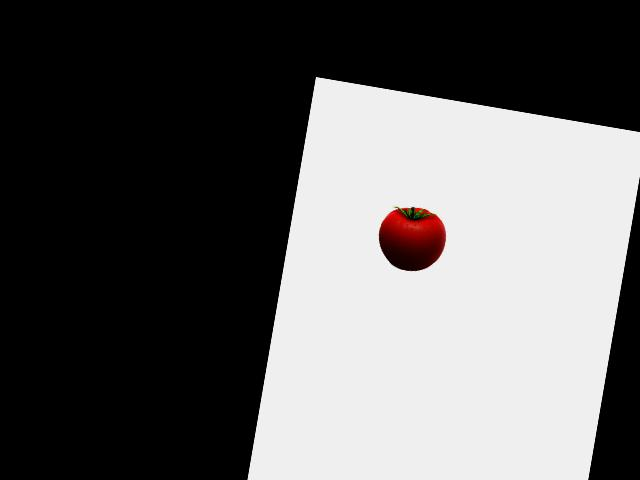tomato: (374, 202, 442, 274)
